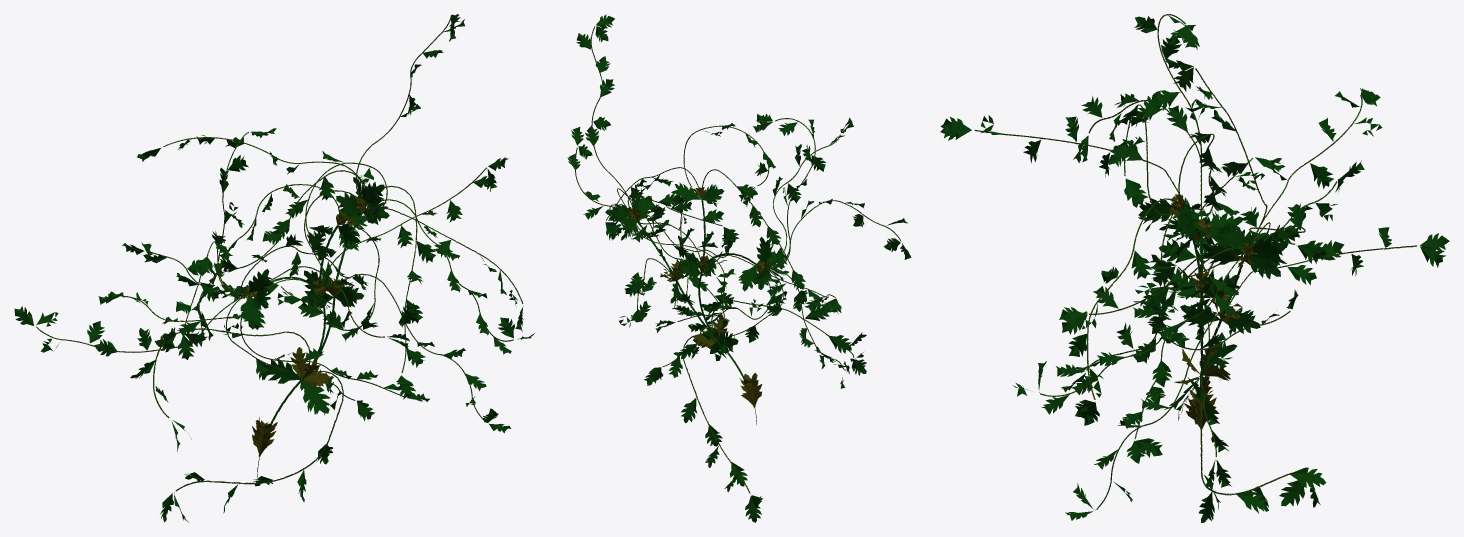
The model's file is plant.obj.
3 views of the same model, side by side, from view 1: azimuth 30°, elevation 25°; view 2: azimuth 150°, elevation 25°; view 3: azimuth 270°, elevation 25° (orthographic). The views are drawn at different scales.
Parts seen in each view (by area): view 1: 1Breeder; view 2: 1Breeder; view 3: 1Breeder.
Part boxes in pixels (left/top/right/bottom): 1Breeder: left=14, top=14, right=534, bottom=522; 1Breeder: left=567, top=14, right=911, bottom=522; 1Breeder: left=940, top=14, right=1449, bottom=522.
Size of the model in its own units: 129 by 148 by 117.
